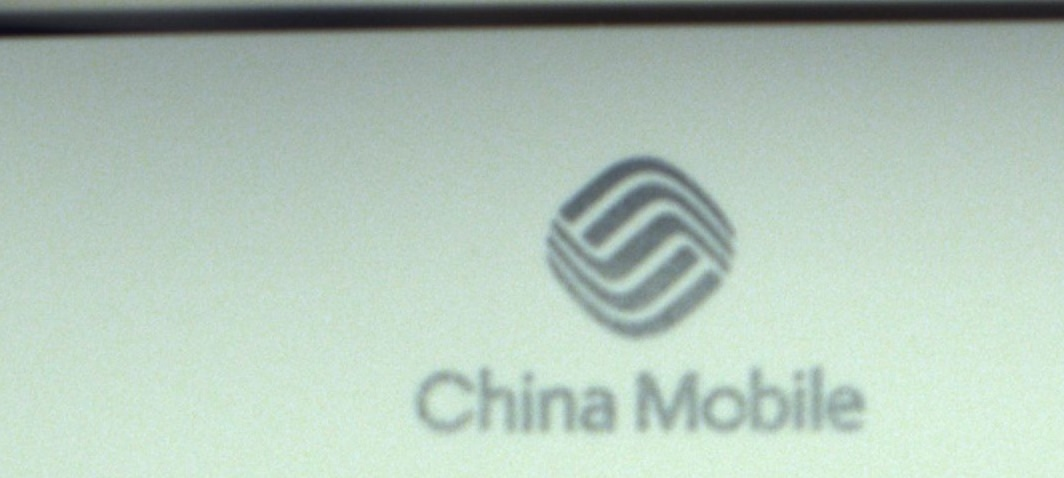AA_ChinaMobile: (406, 149, 879, 436)
